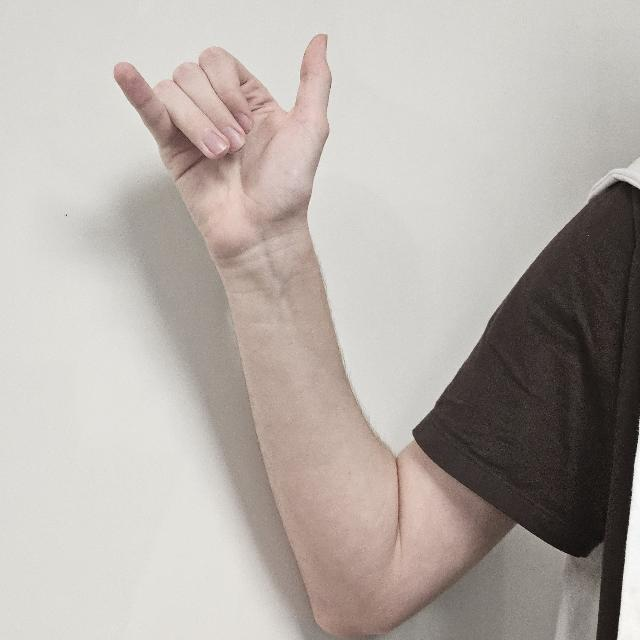Direita: (115, 33, 333, 317)
